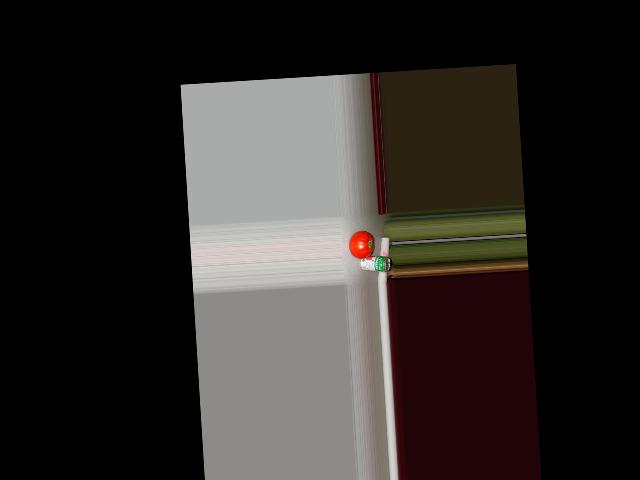tomato: (348, 230, 373, 259)
